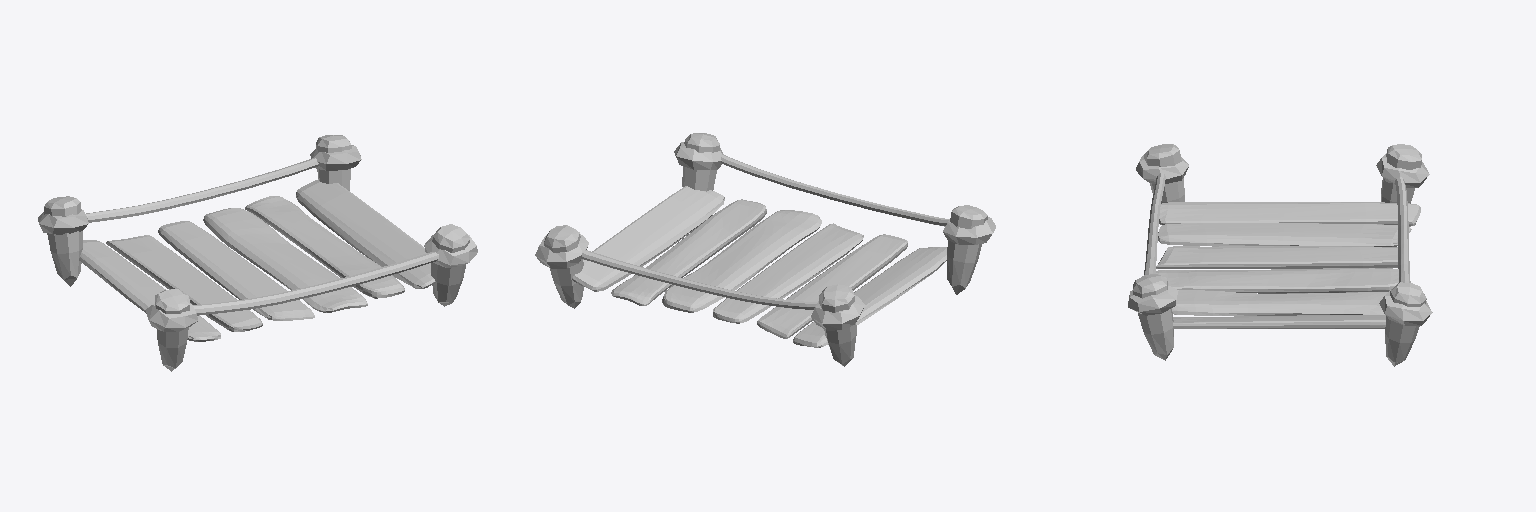
The model's file is large_tropical_bridge_whole.obj.
3 renders of one model, left to right at view 1: azimuth 30°, elevation 25°; view 2: azimuth 150°, elevation 25°; view 3: azimuth 270°, elevation 25°, orthographic.
Parts seen in each view (by area): view 1: bridge.001_Cube.001, bridge.002_Cube.002, bridge.003_Cube.003; view 2: bridge.001_Cube.001, bridge.002_Cube.002, bridge.003_Cube.003; view 3: bridge.001_Cube.001, bridge.003_Cube.003, bridge.002_Cube.002.
Boxes of the visible parts, <box> form: bridge.001_Cube.001: <box>79,179,435,341</box>; bridge.002_Cube.002: <box>38,145,477,331</box>; bridge.003_Cube.003: <box>44,135,469,371</box>; bridge.001_Cube.001: <box>572,186,946,347</box>; bridge.002_Cube.002: <box>535,142,995,330</box>; bridge.003_Cube.003: <box>544,133,987,366</box>; bridge.001_Cube.001: <box>1156,202,1420,328</box>; bridge.003_Cube.003: <box>1133,144,1426,366</box>; bridge.002_Cube.002: <box>1128,153,1432,325</box>.
Bounding box in the file's own units: 15.57 × 3.98 × 12.39.